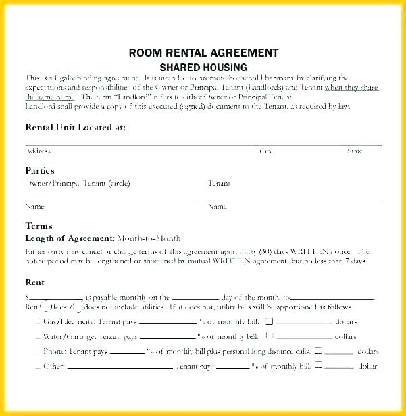checkbox: (36, 301, 54, 313), (70, 301, 86, 313), (265, 328, 275, 341), (313, 346, 324, 356), (264, 317, 274, 326), (314, 360, 323, 369)
textline: (23, 130, 387, 149), (206, 187, 384, 205), (24, 186, 202, 203), (291, 286, 375, 306), (66, 359, 173, 373), (274, 313, 334, 329), (28, 285, 83, 302), (274, 328, 334, 343), (139, 330, 195, 344), (170, 288, 222, 303), (137, 315, 197, 328), (214, 358, 251, 373), (107, 343, 145, 357), (324, 359, 357, 373), (324, 346, 357, 356)
